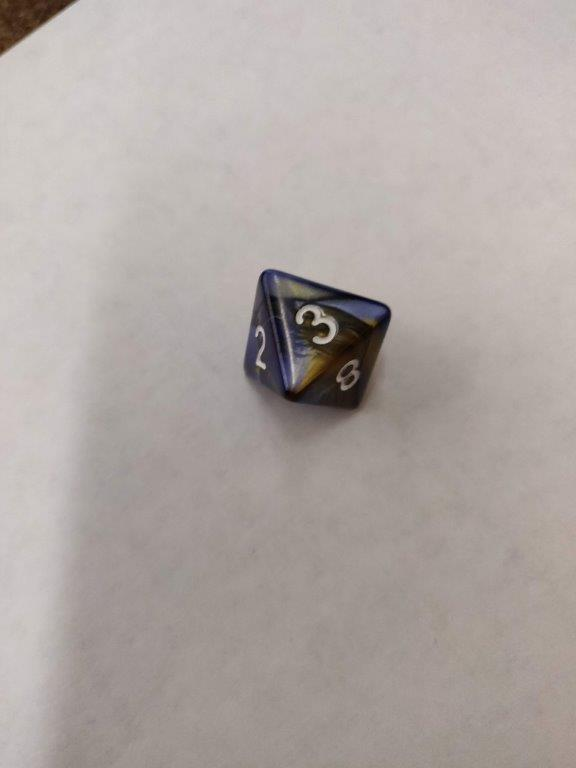d8-3: (241, 269, 393, 413)
